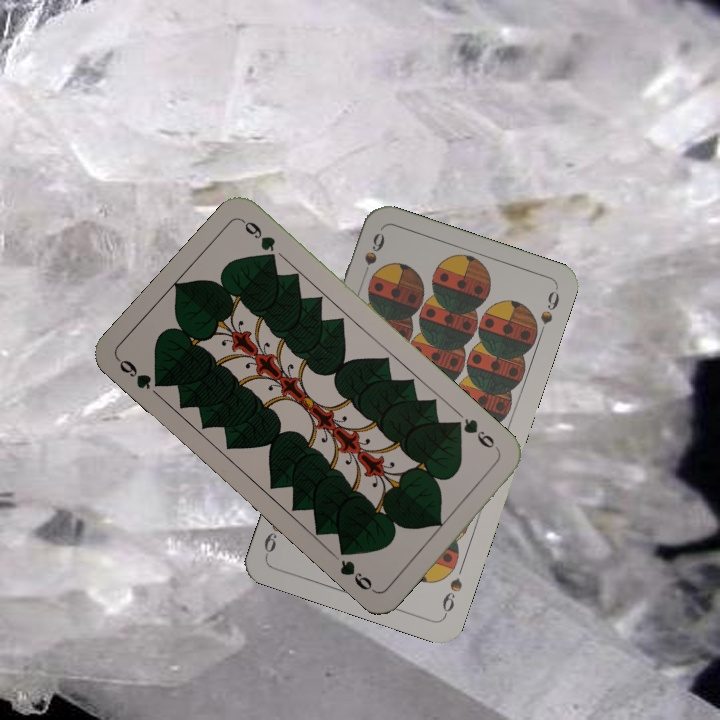G9: (449, 414, 503, 455), (114, 355, 169, 392)
S9: (357, 228, 388, 285), (438, 574, 465, 619)
